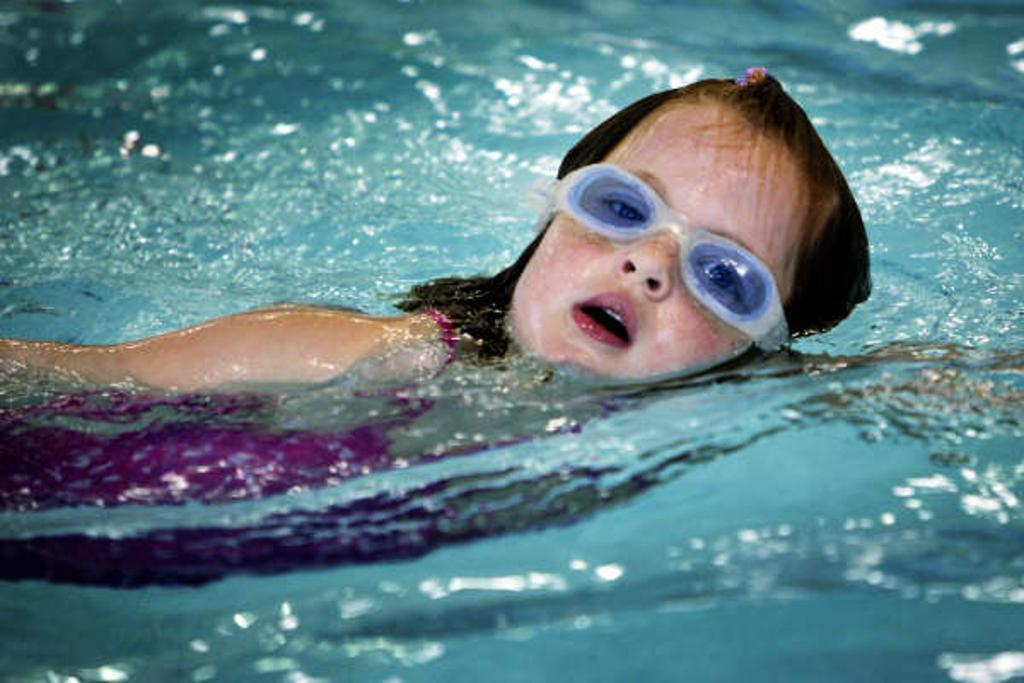face: (526, 136, 778, 388)
